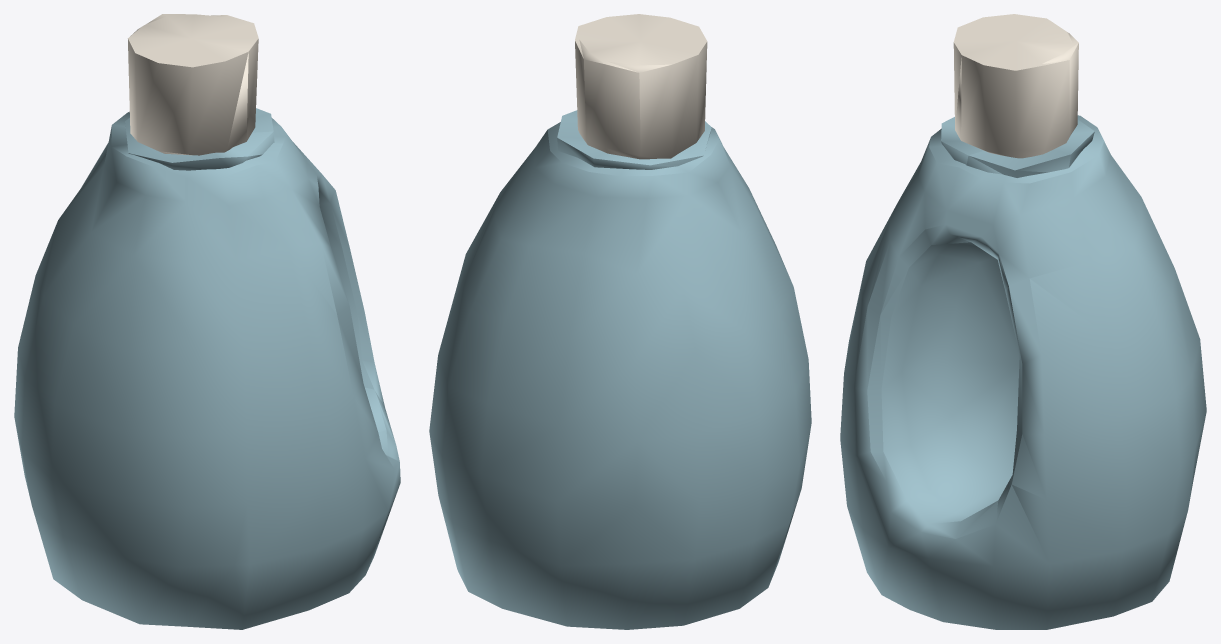
File: bath_detergent.glb
The picture shows the model from 3 angles, left to right: view 1: azimuth 30°, elevation 25°; view 2: azimuth 150°, elevation 25°; view 3: azimuth 270°, elevation 25°; orthographic projection. The views are drawn at different scales.
Size of the model in its own units: 0.28 by 0.4265 by 0.2743.
